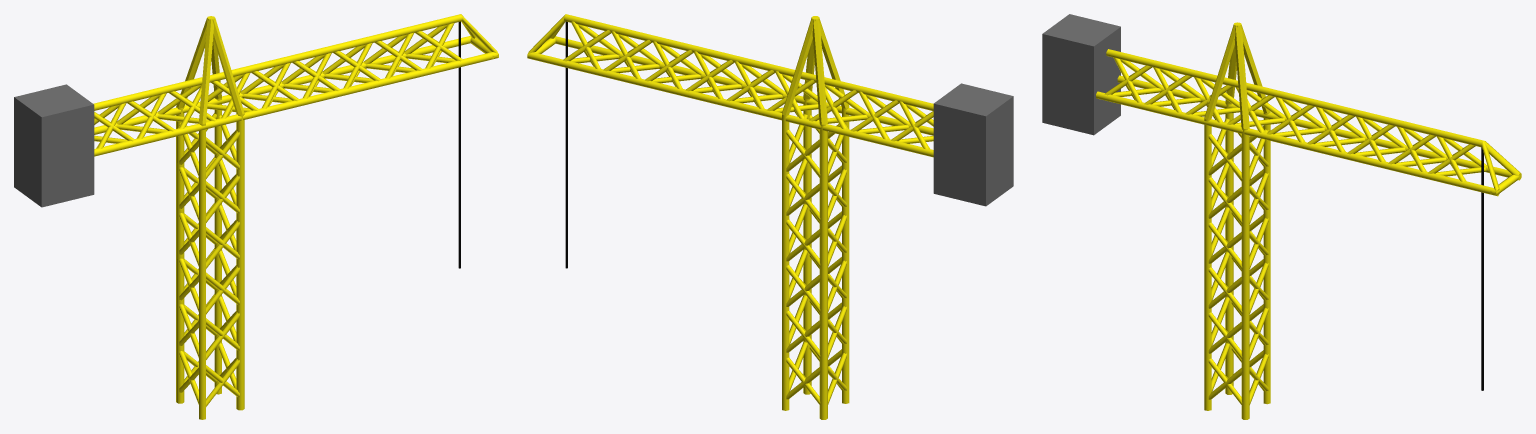
File: Crane.fbx
The picture shows the model from 3 angles, left to right: view 1: azimuth 30°, elevation 25°; view 2: azimuth 150°, elevation 25°; view 3: azimuth 330°, elevation 25°; orthographic projection.
Visible parts, largest first — view 1: Crane; view 2: Crane; view 3: Crane.
Part boxes in pixels (left/top/right/bottom): Crane: left=14, top=14, right=498, bottom=419; Crane: left=527, top=14, right=1013, bottom=419; Crane: left=1042, top=14, right=1521, bottom=419.
Bounding box in the file's own units: 9600 × 7754 × 1007.
